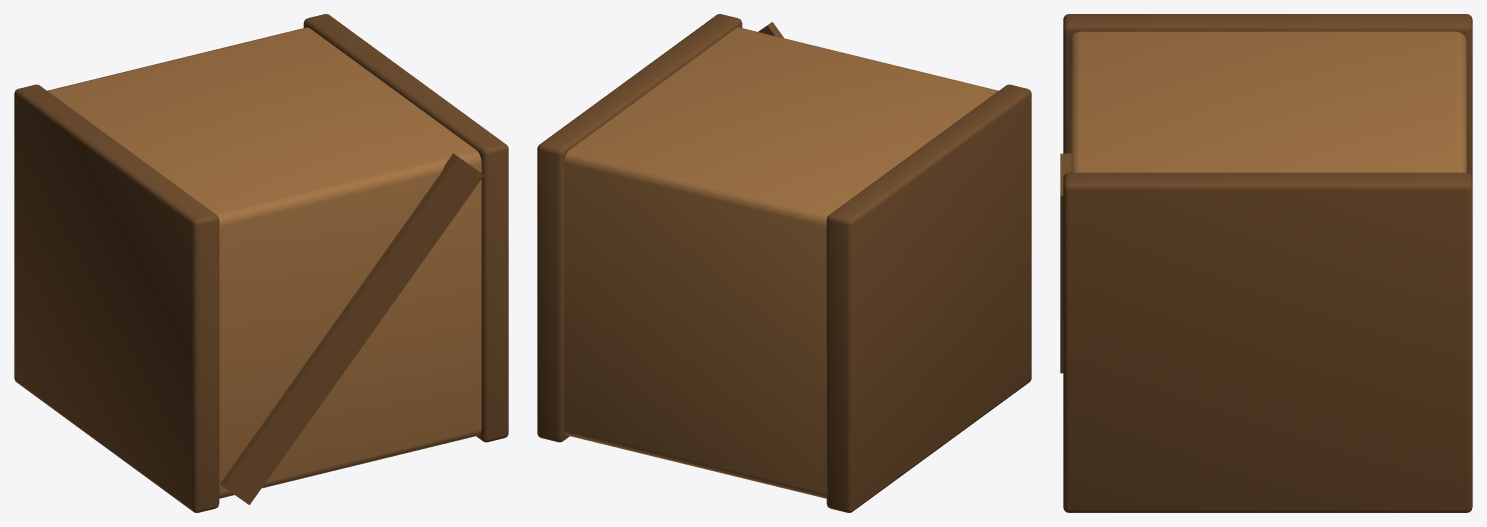
The model's file is crate.glb.
3 views of the same model, side by side, from view 1: azimuth 30°, elevation 25°; view 2: azimuth 150°, elevation 25°; view 3: azimuth 270°, elevation 25° (orthographic). The views are drawn at different scales.
Visible parts, largest first — view 1: c.004, e, x, e.001; view 2: c.004, e, e.001; view 3: e.001, c.004, e, x.
Part boxes in pixels (x1=…): c.004: x1=47, y1=27, x2=481, y2=498; e: x1=14, y1=84, x2=219, y2=512; x: x1=220, y1=153, x2=483, y2=504; e.001: x1=303, y1=14, x2=508, y2=442; c.004: x1=564, y1=27, x2=998, y2=498; e: x1=826, y1=84, x2=1031, y2=512; e.001: x1=537, y1=14, x2=742, y2=442; e.001: x1=1063, y1=172, x2=1472, y2=512; c.004: x1=1069, y1=31, x2=1466, y2=172; e: x1=1063, y1=14, x2=1472, y2=177; x: x1=1060, y1=153, x2=1071, y2=373.
Size of the model in its own units: 0.72 by 0.648 by 0.725.
